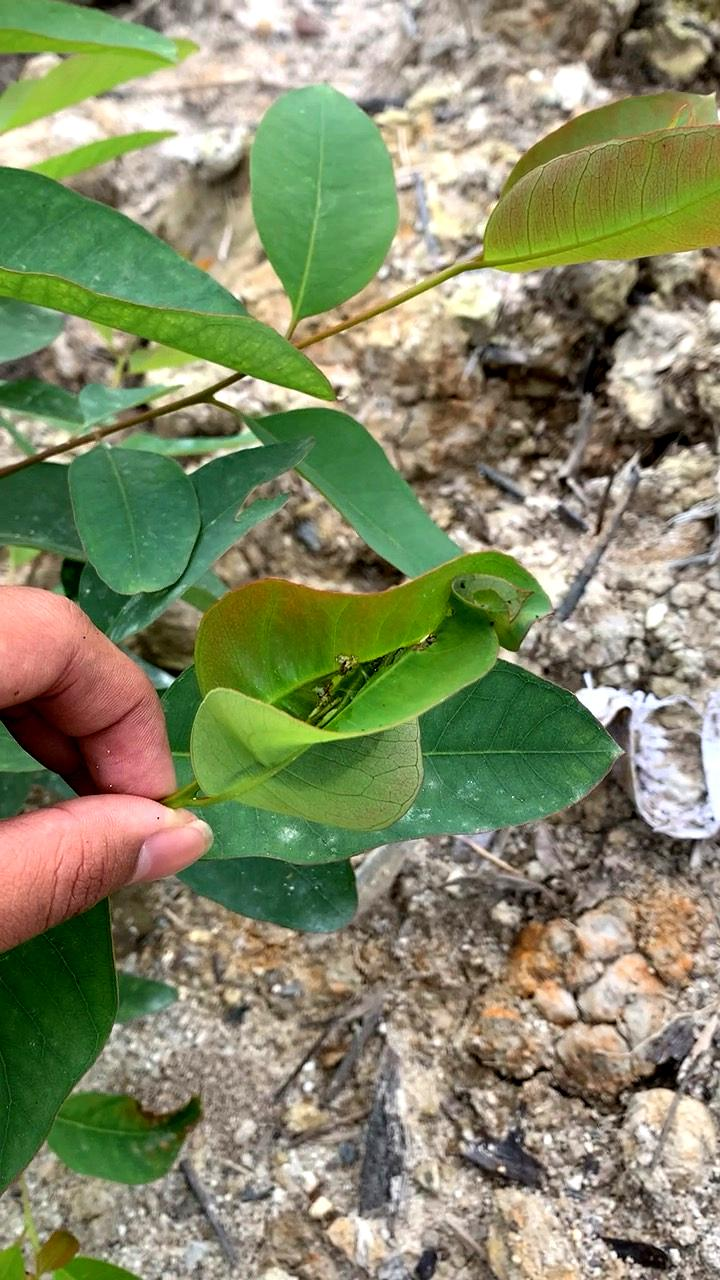Leaf Roller - Leaf: (167, 528, 593, 820)
